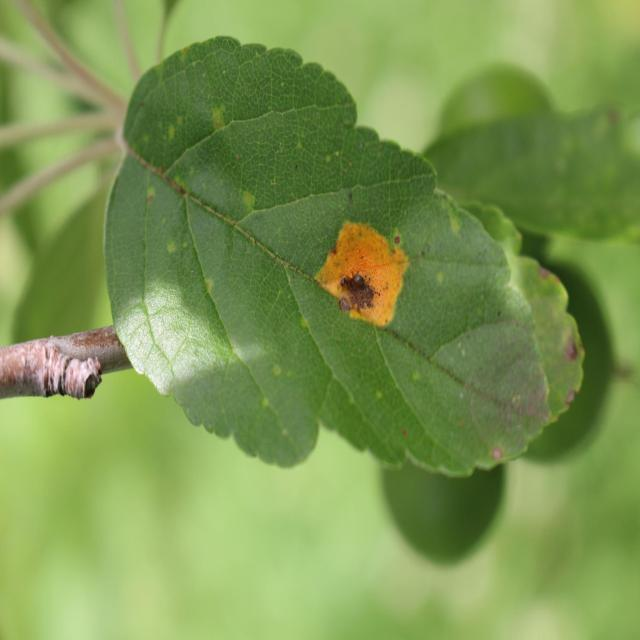Rust: (314, 196, 414, 354)
